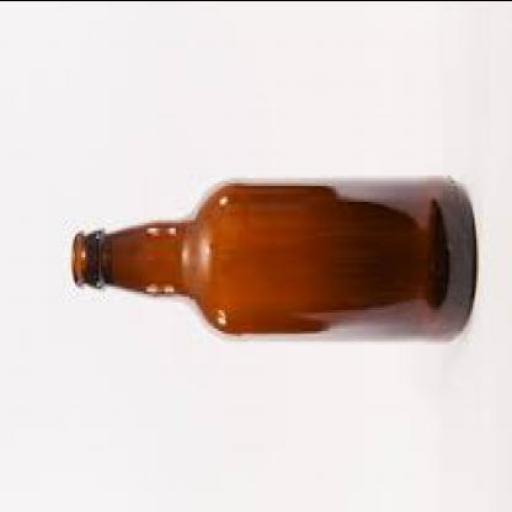glass: (69, 183, 475, 340)
